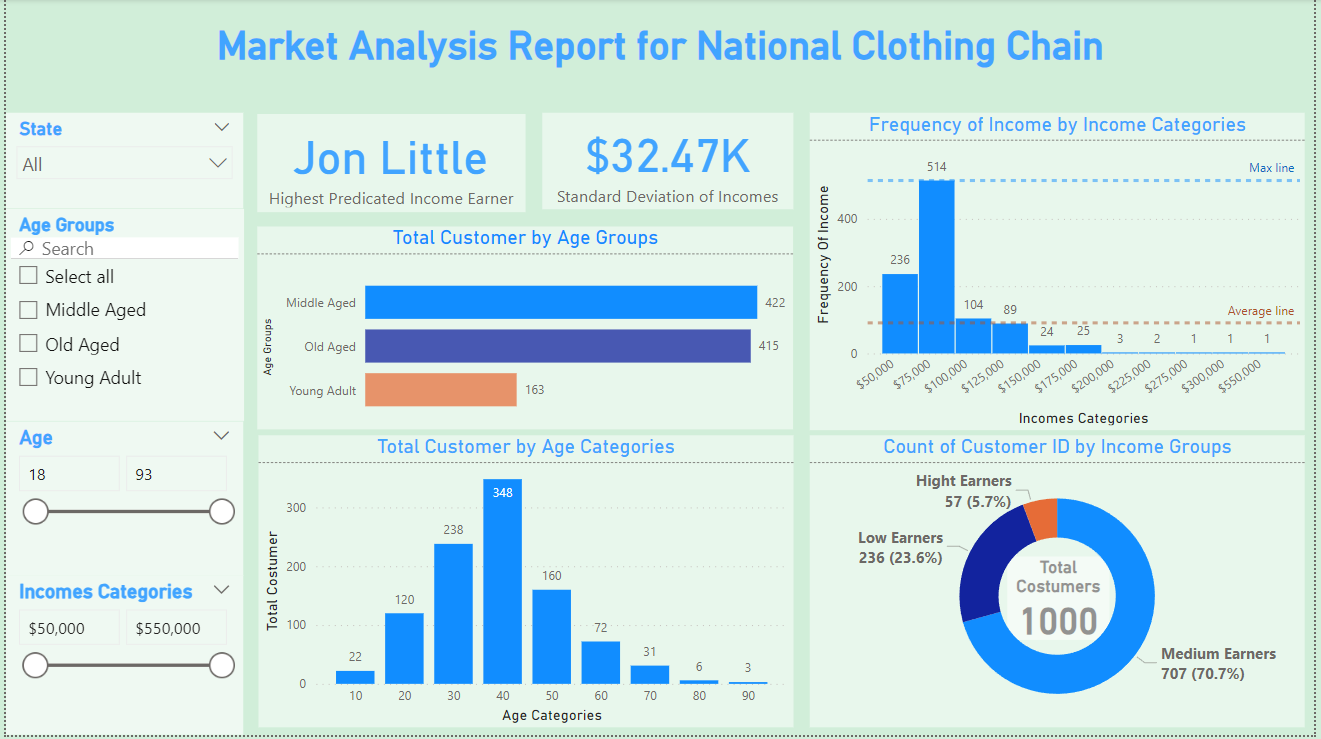

Layout of this report page (visuals, bound fields, positions):
{"tool":"powerbi","page":{"name":"Customer Analysis","canvas":[1280,720],"ordinal":2},"visuals":[{"type":"card","title":"Total Costumers","fields":{"Values":["Customer List.Total Customers Analyzed"]},"box":[978.6,545.7,100,81.4],"z":0},{"type":"donutChart","fields":{"Category":["Customer List.Income Groups"],"Y":["CountNonNull(Customer List.Customer ID)"]},"box":[785.7,427.1,484.3,285.7],"z":1000},{"type":"slicer","fields":{"Values":["Incomes by State.State"]},"box":[0,111.7,231.7,93.3],"z":2000},{"type":"slicer","fields":{"Values":["Customer List.Age"]},"box":[0,413.3,231.7,150],"z":3000},{"type":"slicer","fields":{"Values":["Customer List.Age Groups"]},"box":[0,205,232.5,207.5],"z":4000},{"type":"slicer","fields":{"Values":["Customer List.Incomes Categories"]},"box":[0,564,232,156],"z":5000},{"type":"textbox","box":[0,0,1280,82],"z":6000},{"type":"clusteredBarChart","title":"Total Customer by Age Groups","fields":{"Y":["CountNonNull(Customer List.Customer ID)"],"Category":["Customer List.Age Groups"]},"box":[245.7,222.9,524.3,198.6],"z":7000},{"type":"columnChart","title":"Total Customer by Age Categories","fields":{"Category":["Customer List.Age Categories"],"Y":["CountNonNull(Customer List.Customer ID)"]},"box":[247.1,427.1,522.9,285.7],"z":8000},{"type":"card","fields":{"Values":["Avg Income by State.Customer has highest income"]},"box":[246,112,262,96],"z":9000},{"type":"card","fields":{"Values":["Customer List.Standard Deviation of Incomes"]},"box":[524.3,111.4,245.7,94.3],"z":10000},{"type":"clusteredColumnChart","title":"Frequency of Income by Income Categories","fields":{"Category":["Customer List.Incomes Categories"],"Y":["CountNonNull(Customer List.Customer ID)"]},"box":[785.7,111.4,484.3,310],"z":11000}]}

Visuals, with their boxes in screenshot pixels (x1, y1, x2, y2), scaled from the page's 1280x720 canvas onto the 1321x739 screenshot:
"Total Costumers" card: 1010,560,1113,644
donutChart - Customer List.Income Groups x CountNonNull(Customer List.Customer ID): 811,438,1311,732
slicer - Incomes by State.State: 0,115,239,210
slicer - Customer List.Age: 0,424,239,578
slicer - Customer List.Age Groups: 0,210,240,423
slicer - Customer List.Incomes Categories: 0,579,239,738
textbox: 0,0,1320,84
"Total Customer by Age Groups" clusteredBarChart: 254,229,795,433
"Total Customer by Age Categories" columnChart: 255,438,795,732
card - Avg Income by State.Customer has highest income: 254,115,524,213
card - Customer List.Standard Deviation of Incomes: 541,114,795,211
"Frequency of Income by Income Categories" clusteredColumnChart: 811,114,1311,433
